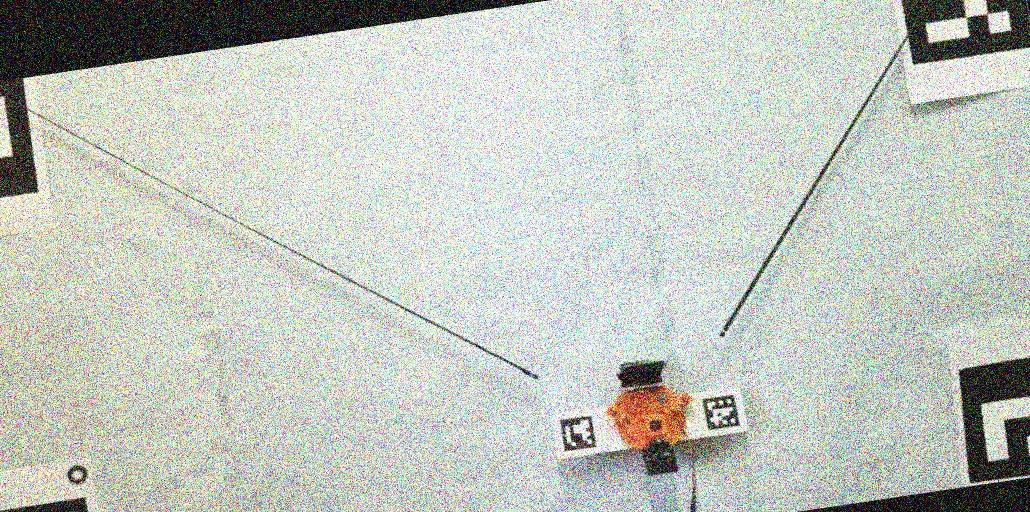obstacle: (605, 358, 691, 474)
